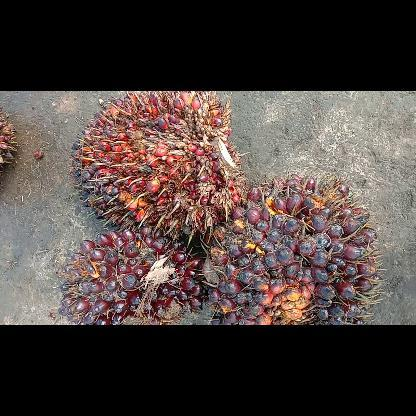Kurang masak: (202, 172, 376, 324), (58, 228, 202, 324)
TBS masak: (71, 91, 247, 237)
